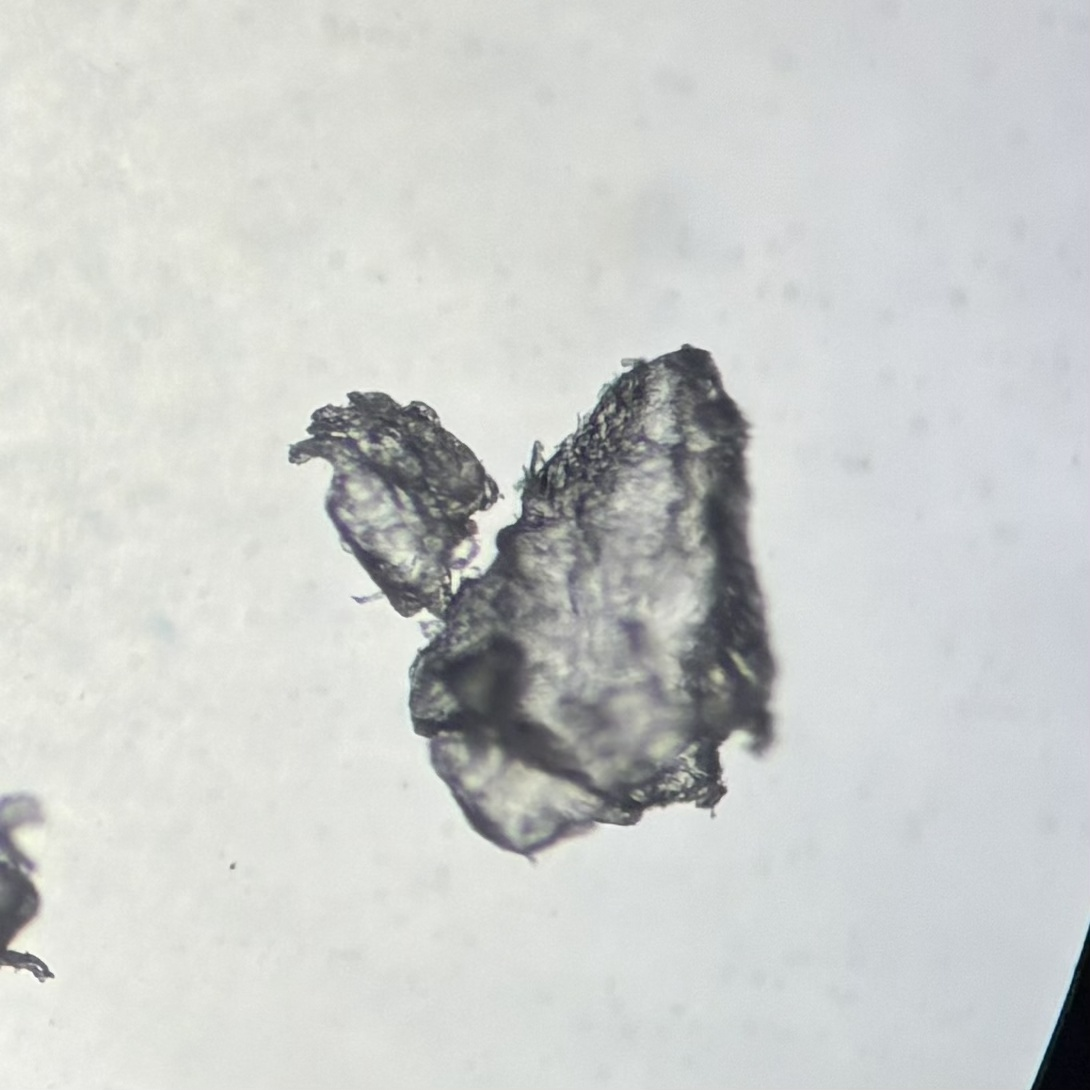microplastic: (287, 343, 781, 859), (1, 793, 53, 988)
